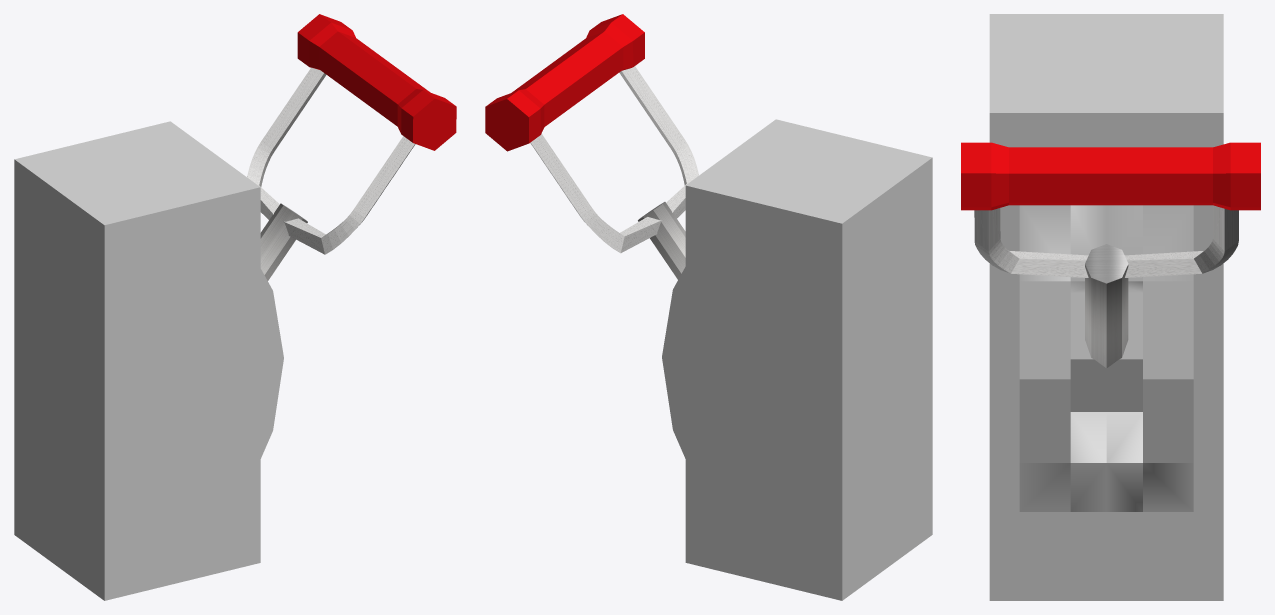
The model's file is Switch_Completedv3.fbx.
3 renders of one model, left to right at view 1: azimuth 30°, elevation 25°; view 2: azimuth 150°, elevation 25°; view 3: azimuth 270°, elevation 25°, orthographic. The views are drawn at different scales.
Visible parts, largest first — view 1: Main, Handle, Lever, Pole; view 2: Main, Handle, Lever, Pole; view 3: Main, Handle, Lever, Pole.
Boxes of the visible parts, x1,y1,x2,y2 form: Main: [14, 121, 283, 600]; Handle: [297, 14, 456, 150]; Lever: [247, 67, 415, 254]; Pole: [260, 203, 307, 280]; Main: [662, 119, 932, 600]; Handle: [485, 14, 644, 151]; Lever: [530, 66, 698, 253]; Pole: [638, 202, 685, 279]; Main: [989, 14, 1223, 600]; Handle: [961, 142, 1260, 210]; Lever: [974, 205, 1238, 277]; Pole: [1085, 244, 1128, 368].
Size of the model in its own units: 190 by 230 by 111.
3 materials, 1 textured.
